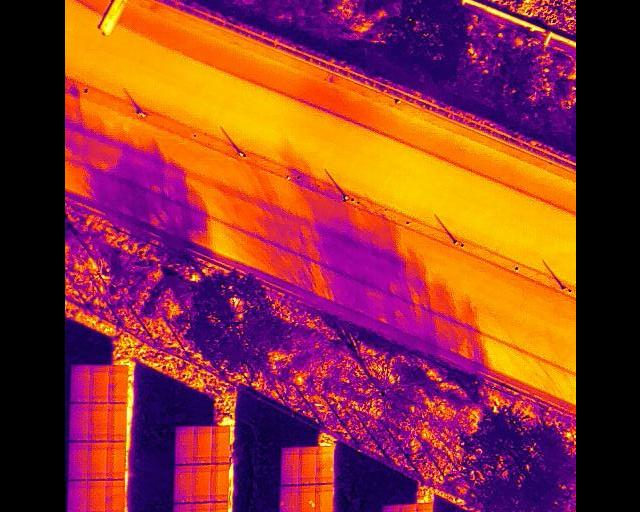Cell: (315, 446, 333, 485), (279, 485, 295, 512), (191, 504, 209, 512)
Cell-Multi: (295, 485, 314, 512)
No-Anomaly: (86, 442, 106, 480), (174, 426, 193, 465), (208, 464, 227, 502), (106, 403, 125, 441), (87, 403, 106, 441), (70, 366, 89, 403), (297, 446, 315, 485), (174, 465, 192, 504), (192, 426, 210, 464), (107, 366, 125, 404), (69, 403, 87, 441), (68, 442, 86, 480), (210, 426, 228, 463), (90, 366, 108, 403), (106, 442, 123, 481), (280, 447, 297, 485), (193, 464, 209, 504), (103, 480, 122, 512), (67, 480, 86, 512), (86, 480, 103, 512), (315, 483, 332, 512), (209, 503, 226, 512), (173, 504, 191, 512), (415, 504, 432, 512), (381, 504, 398, 512), (398, 504, 414, 512)
